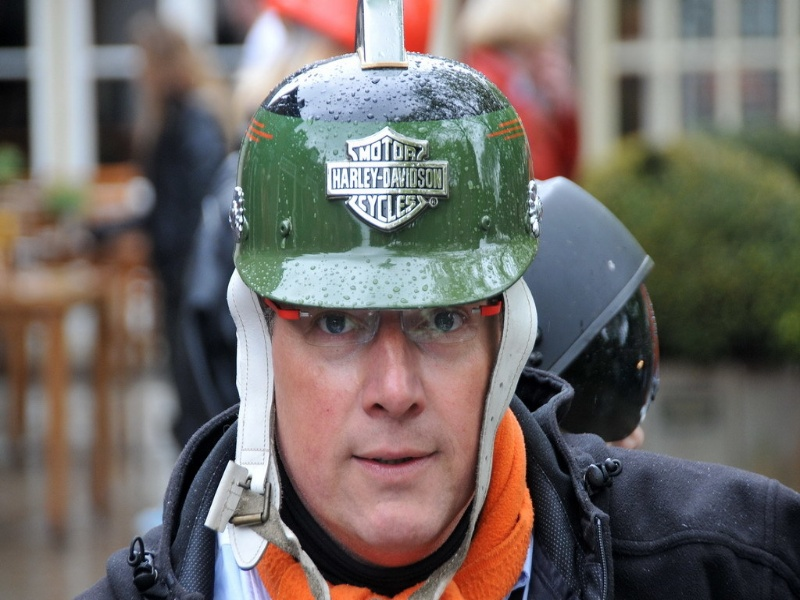Baret: (234, 51, 544, 308)
